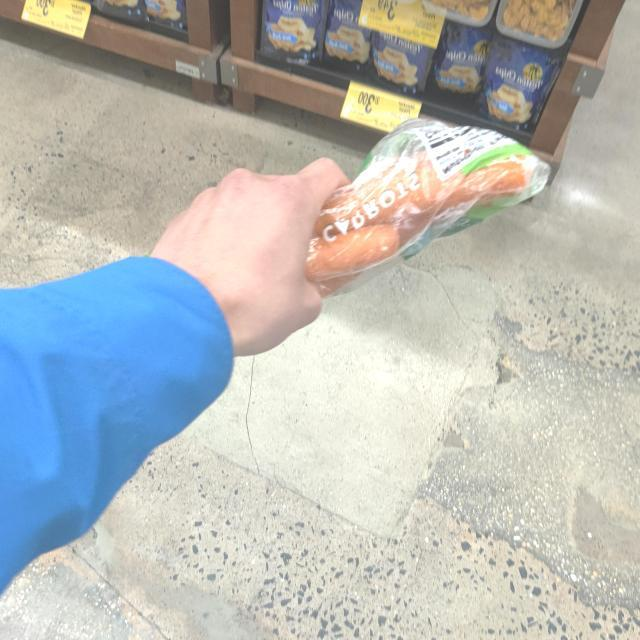carrot: (162, 115, 568, 332)
